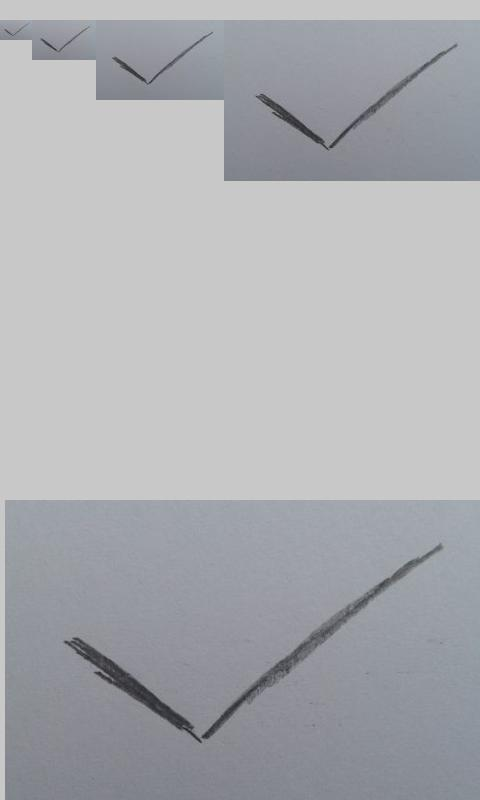check_box: (67, 546, 440, 744), (256, 44, 456, 150), (112, 32, 213, 85), (40, 27, 90, 53), (4, 23, 27, 37)
